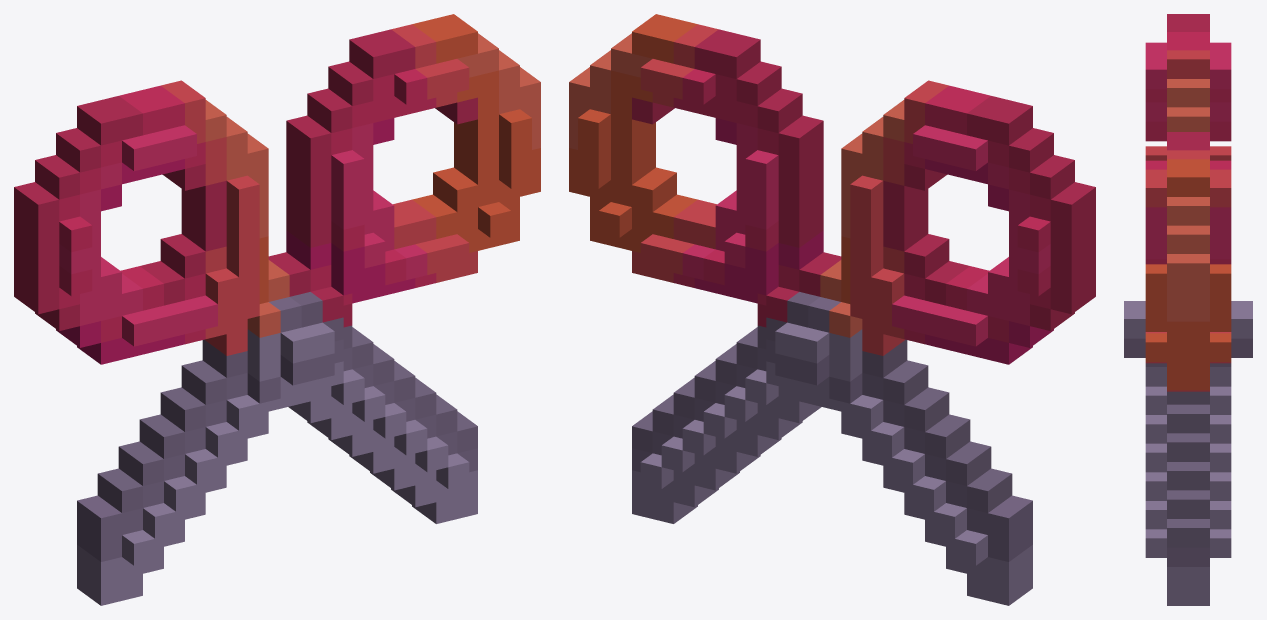
Rendered from scissors.glb.
3 views of the same model, side by side, from view 1: azimuth 30°, elevation 25°; view 2: azimuth 150°, elevation 25°; view 3: azimuth 270°, elevation 25° (orthographic). The views are drawn at different scales.
Visible parts, largest first — view 1: prop; view 2: prop; view 3: prop.
Part boxes in pixels (left/top/right/bottom): prop: left=14, top=14, right=540, bottom=605; prop: left=569, top=14, right=1095, bottom=605; prop: left=1124, top=14, right=1252, bottom=605.
Size of the model in its own units: 16.36 by 15 by 4.09.
